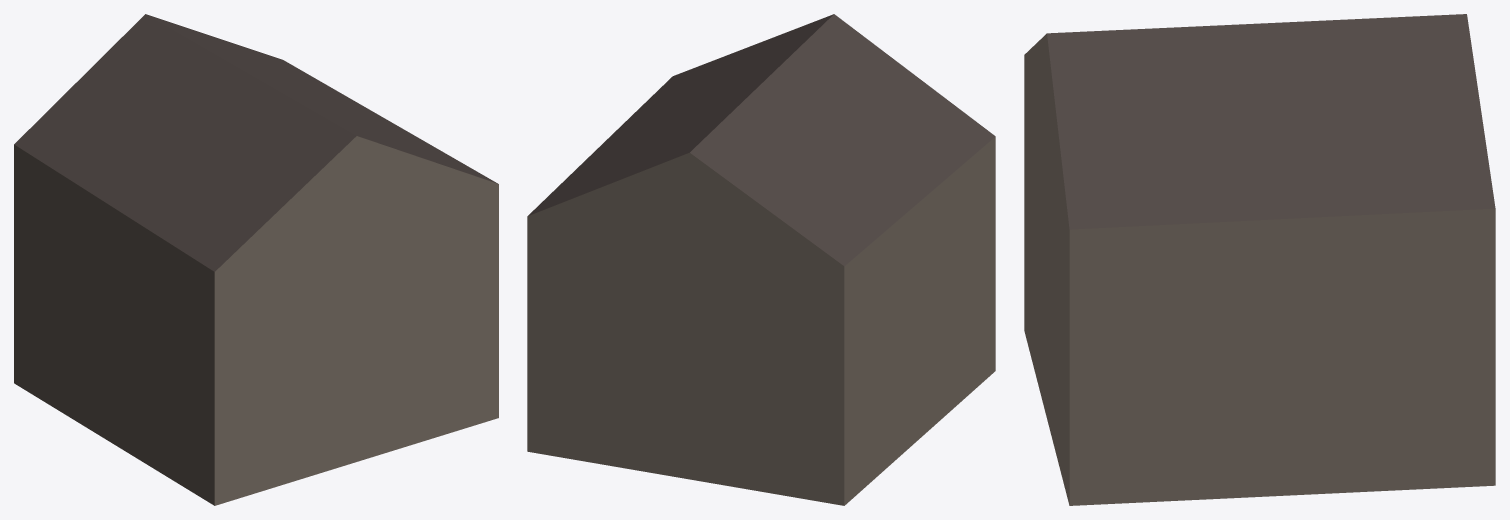
3 views of the same model, side by side, from view 1: azimuth 30°, elevation 25°; view 2: azimuth 150°, elevation 25°; view 3: azimuth 270°, elevation 25° (orthographic). The views are drawn at different scales.
Parts seen in each view (by area): view 1: HP-w1512965853; view 2: HP-w1512965853; view 3: HP-w1512965853.
Part boxes in pixels (x1=…): HP-w1512965853: x1=14, y1=14, x2=498, y2=505; HP-w1512965853: x1=527, y1=14, x2=995, y2=505; HP-w1512965853: x1=1024, y1=14, x2=1495, y2=505.
Size of the model in its own units: 8.8 by 8.36 by 9.27.
